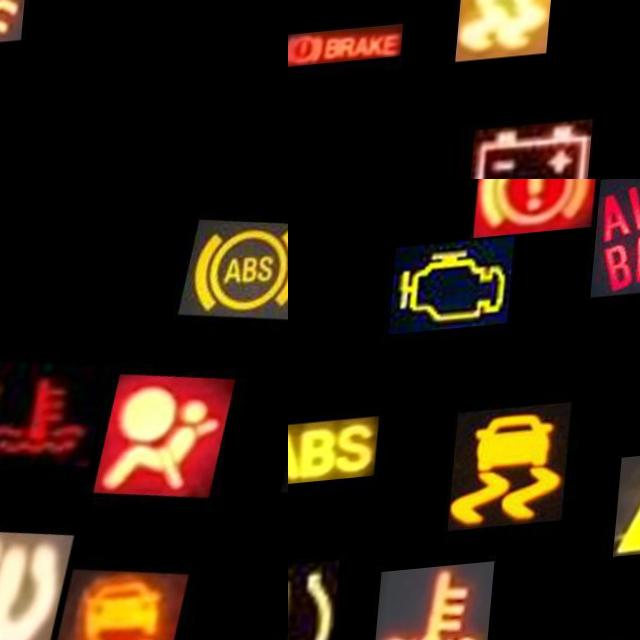Engine cooling system: (0, 353, 115, 478), (381, 567, 502, 640)
